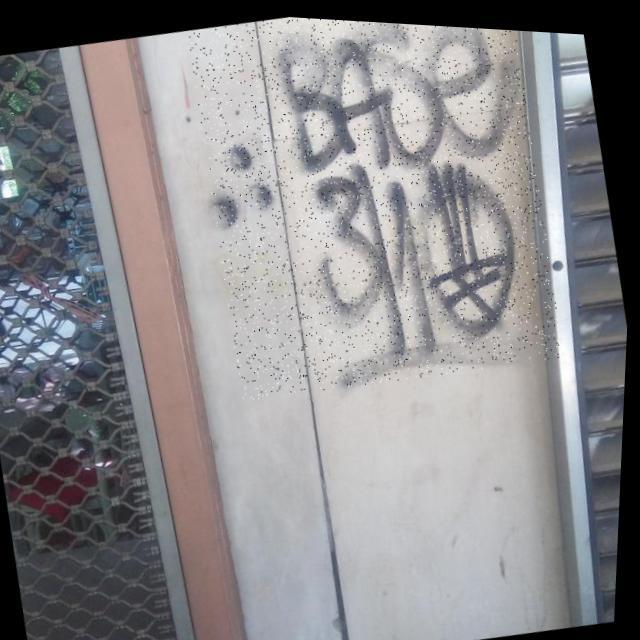-: (175, 9, 578, 412)
